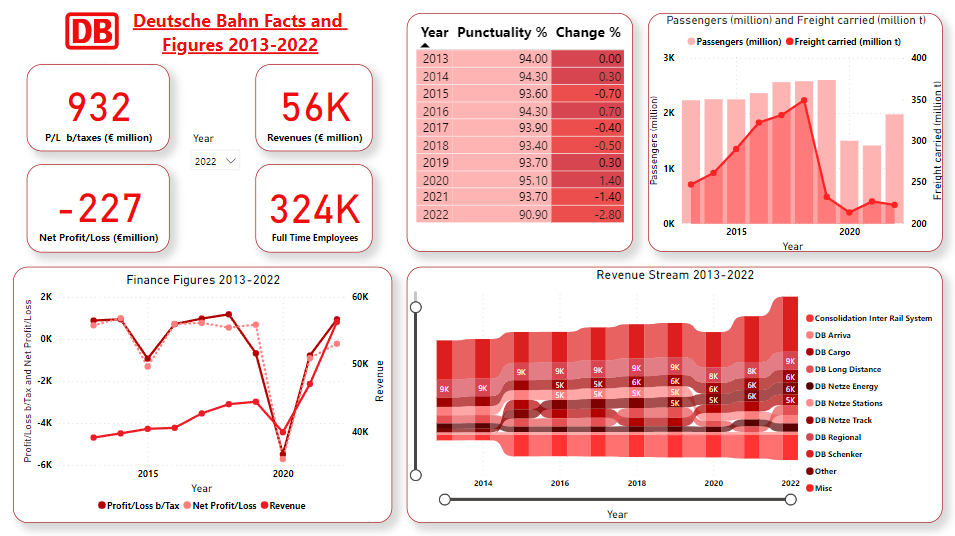

Layout of this report page (visuals, bound fields, positions):
{"tool":"powerbi","page":{"name":"Page 1","canvas":[1280,720],"ordinal":0},"visuals":[{"type":"lineChart","title":"Finance Figures 2013-2022","fields":{"Category":["Sheet1.Year"],"Y":["Sum(Sheet1.Profit/loss before taxes on income € million)","Sum(Sheet1.Net profit/loss for the year € million)"],"Y2":["Sum(Sheet1.Revenues € million)"]},"box":[20,358.6,505.7,341.4],"z":0},{"type":"lineClusteredColumnComboChart","title":"Passengers (million) and Freight carried (million t)","fields":{"Category":["Sheet1.Year"],"Y":["Sum(Sheet1.Passengers (million))"],"Y2":["Sum(Sheet1.Freight carried (million t))"]},"box":[867.1,20,392.9,318.6],"z":1000},{"type":"ribbonChart","title":"Revenue Stream 2013-2022","fields":{"Y":["Sum(Sheet1.Consolidation IRS)","Sum(Sheet1.DB Arriva)","Sum(Sheet1.DB Cargo)","Sum(Sheet1.DB Long Distance)","Sum(Sheet1.DB Netze Energy)","Sum(Sheet1.DB Netze Stations)","Sum(Sheet1.DB Netze Track)","Sum(Sheet1.DB Regional)","Sum(Sheet1.DB Schenker)","Sum(Sheet1.Other)","Sum(Sheet1.Misc)"],"Category":["Sheet1.Year"]},"box":[545.7,358.6,714.3,341.4],"z":2000},{"type":"tableEx","title":"Punctuality Change ","fields":{"Values":["Sheet1.Year","Sheet1.PUNCTUALITY DB Group in Germany % ","Sum(Sheet1.Punctuality_Change)"]},"box":[545.7,20,301.4,318.6],"z":3000},{"type":"card","fields":{"Values":["Sum(Sheet1.Profit/loss before taxes on income € million)"]},"box":[38.8,87.5,190,116.2],"z":4000},{"type":"card","fields":{"Values":["Sum(Sheet1.FULL-TIME EMPLOYEES)"]},"box":[343.8,221.2,156.2,117.5],"z":5000},{"type":"slicer","fields":{"Values":["Sheet1.Year"]},"box":[246.2,172.5,86.2,62.5],"z":6000},{"type":"card","fields":{"Values":["Sum(Sheet1.Revenues € million)"]},"box":[342.5,87.5,156.2,116.2],"z":7000},{"type":"card","fields":{"Values":["Sum(Sheet1.Net profit/loss for the year € million)"]},"box":[38.8,221.2,190,117.5],"z":8000},{"type":"textbox","box":[146.2,8.8,352.5,78.8],"z":9000},{"type":"image","box":[85,0,81.2,87.5],"z":10000}]}

Visuals, with their boxes in screenshot pixels (x1, y1, x2, y2), scaled from the page's 1280x720 canvas onto the 955x536 screenshot:
"Finance Figures 2013-2022" lineChart: 15:267:392:521
"Passengers (million) and Freight carried (million t)" lineClusteredColumnComboChart: 647:15:940:252
"Revenue Stream 2013-2022" ribbonChart: 407:267:940:521
"Punctuality Change " tableEx: 407:15:632:252
card - Sum(Sheet1.Profit/loss before taxes on income € million): 29:65:171:152
card - Sum(Sheet1.FULL-TIME EMPLOYEES): 257:165:373:252
slicer - Sheet1.Year: 184:128:248:175
card - Sum(Sheet1.Revenues € million): 256:65:372:152
card - Sum(Sheet1.Net profit/loss for the year € million): 29:165:171:252
textbox: 109:7:372:65
image: 63:0:124:65
